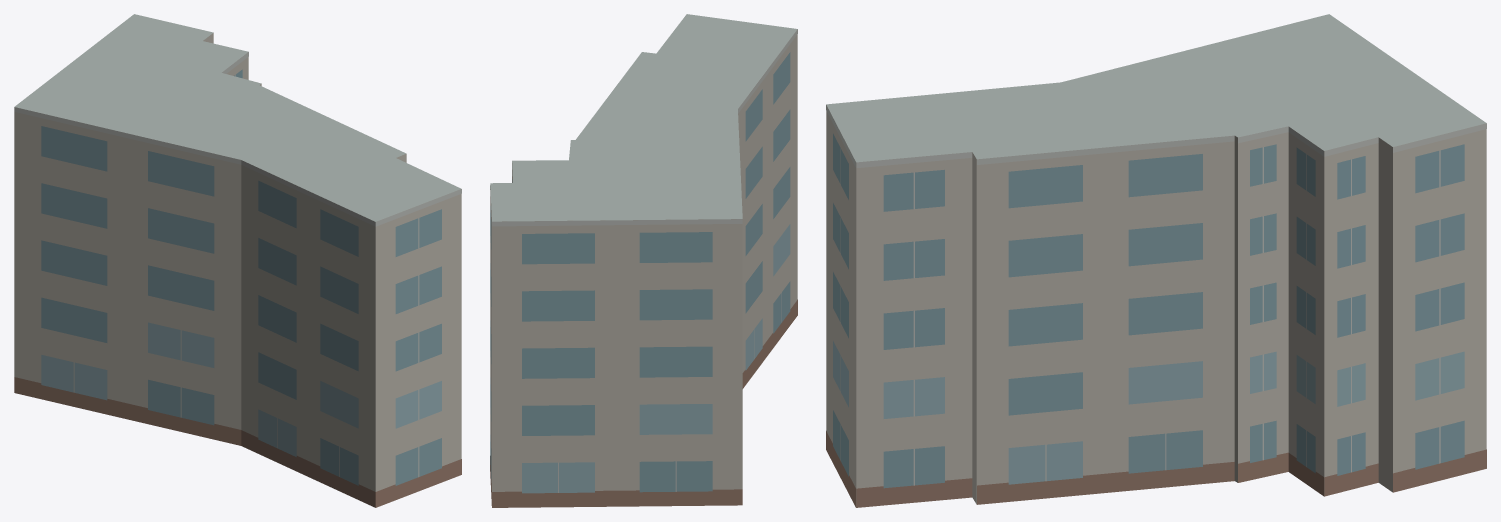
File: survey-upis-33003104.glb
3 renders of one model, left to right at view 1: azimuth 30°, elevation 25°; view 2: azimuth 150°, elevation 25°; view 3: azimuth 270°, elevation 25°, orthographic. The views are drawn at different scales.
Parts seen in each view (by area): view 1: survey-upis-33003104.tmp; view 2: survey-upis-33003104.tmp; view 3: survey-upis-33003104.tmp.
Boxes of the visible parts, x1,y1,x2,y2 form: survey-upis-33003104.tmp: (14,14,461,507); survey-upis-33003104.tmp: (490,14,797,507); survey-upis-33003104.tmp: (826,14,1486,507).
Bounding box in the file's own units: 13.32 × 14.45 × 25.05.
